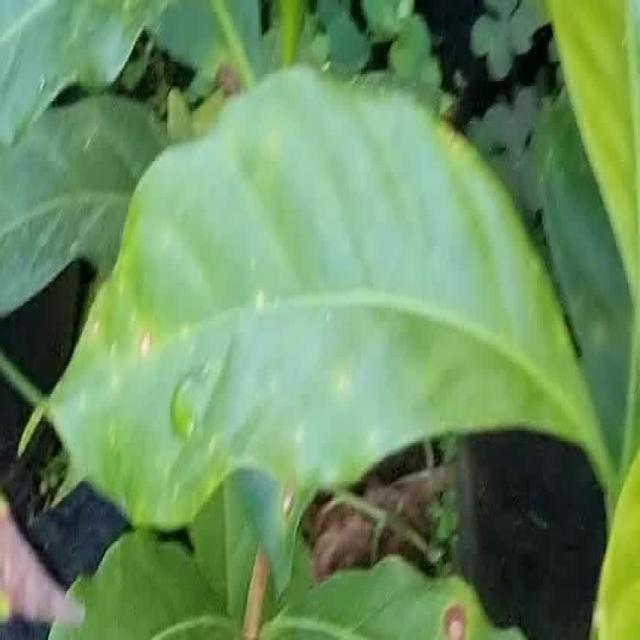leaves: (17, 41, 609, 539)
